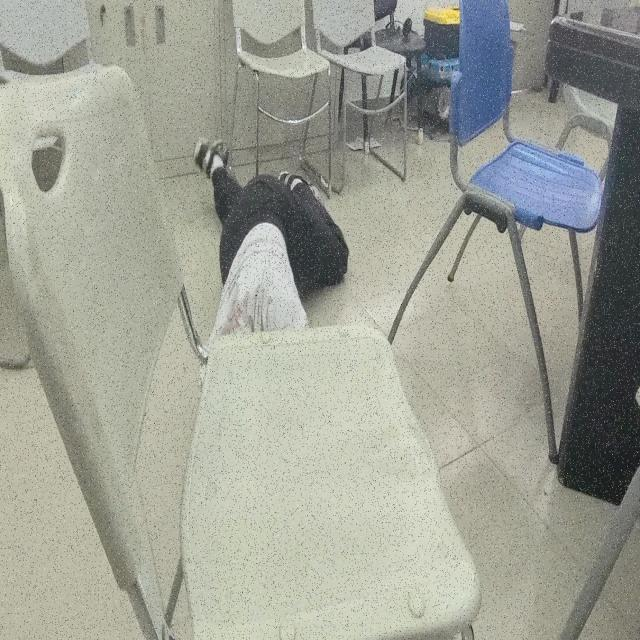fall: (192, 128, 350, 340)
